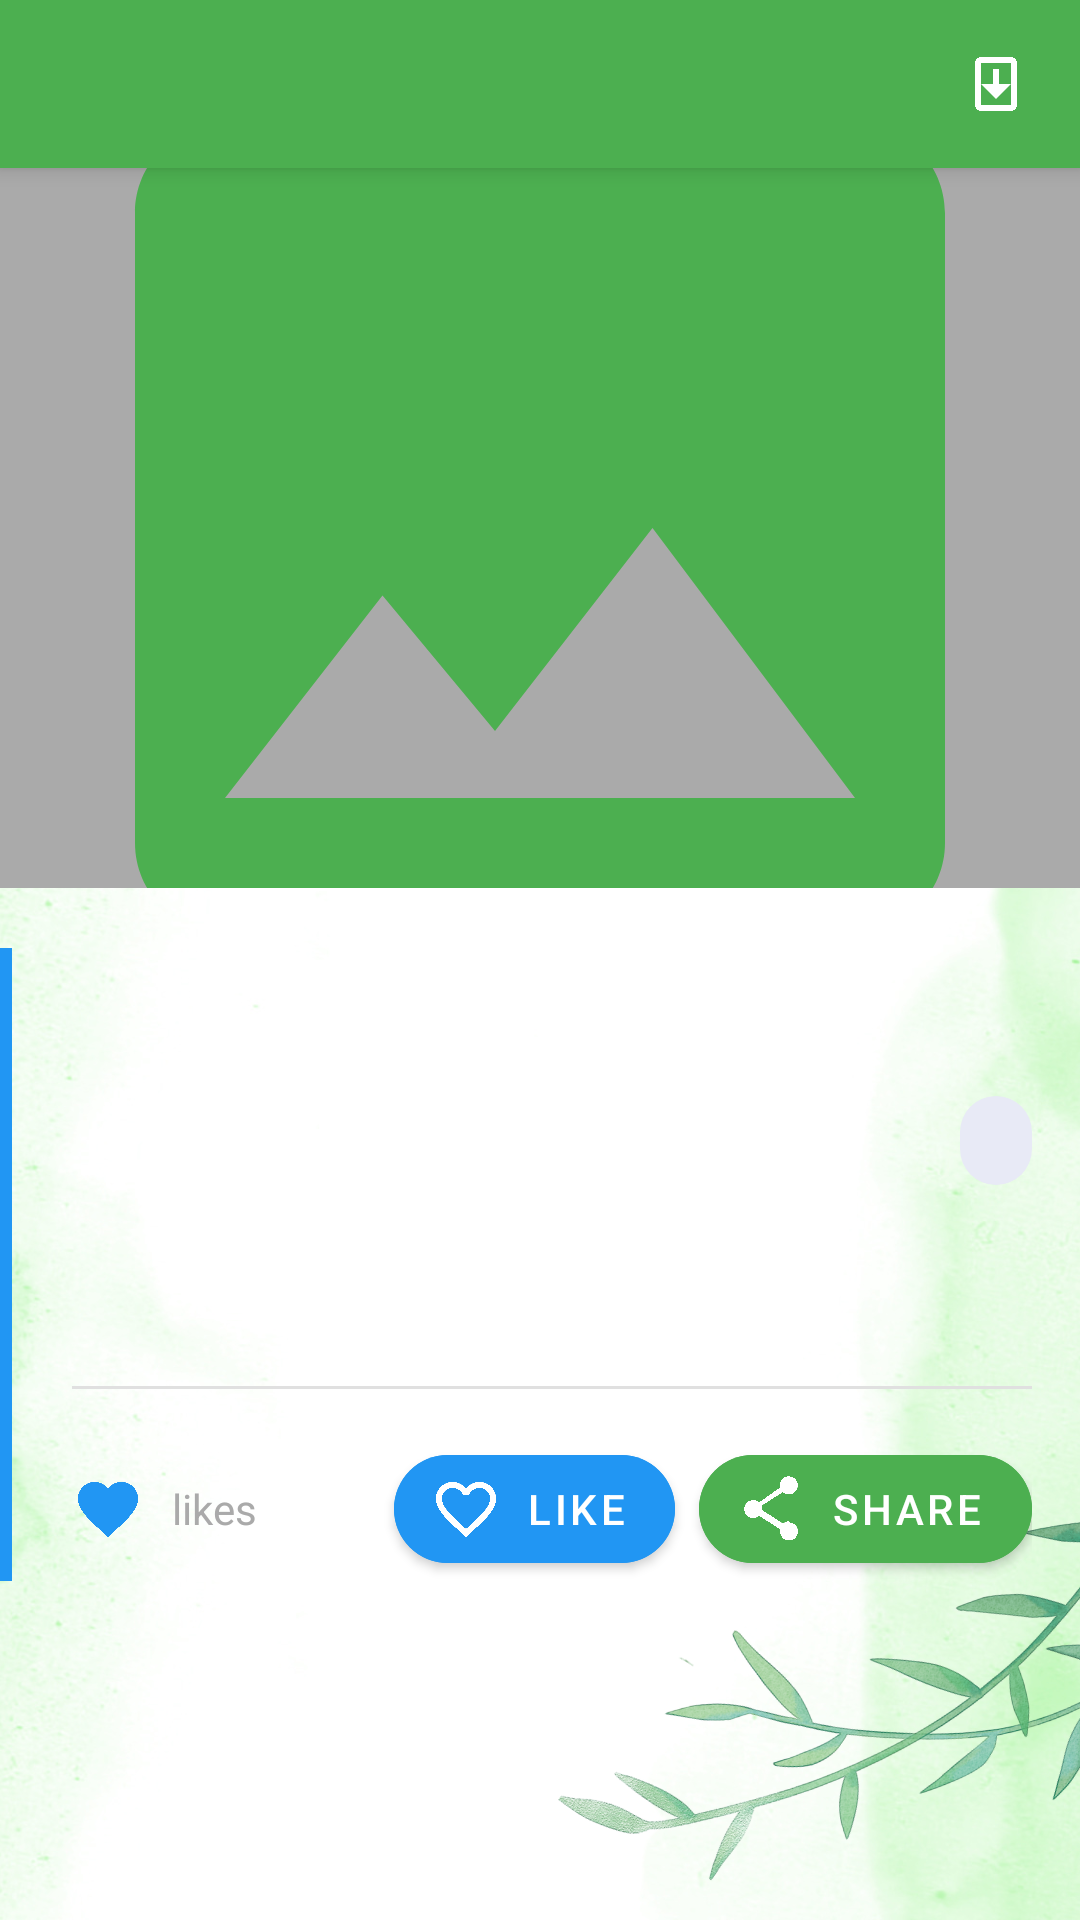

Icons on this 1080px x 1920px Android screen, each with its box as box=[x1, y1, x2, y2]:
Save Post: box=[975, 57, 1017, 111]
